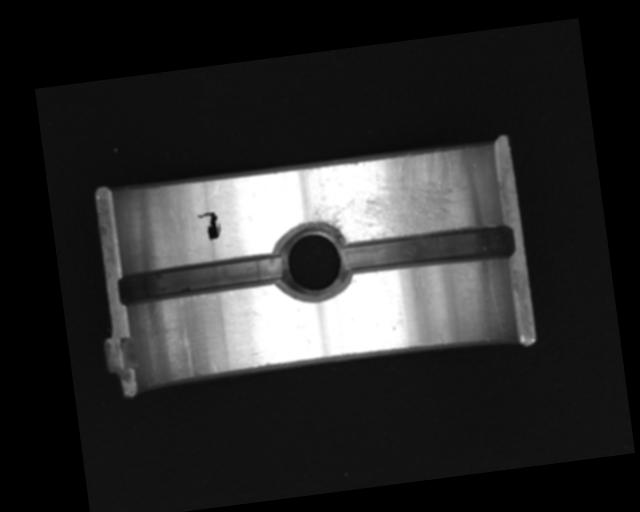blot: (197, 209, 222, 242)
gap: (340, 221, 516, 278), (116, 253, 284, 305)
hole: (270, 219, 353, 300)
nick: (180, 326, 196, 375)
scratch: (301, 148, 476, 248)
